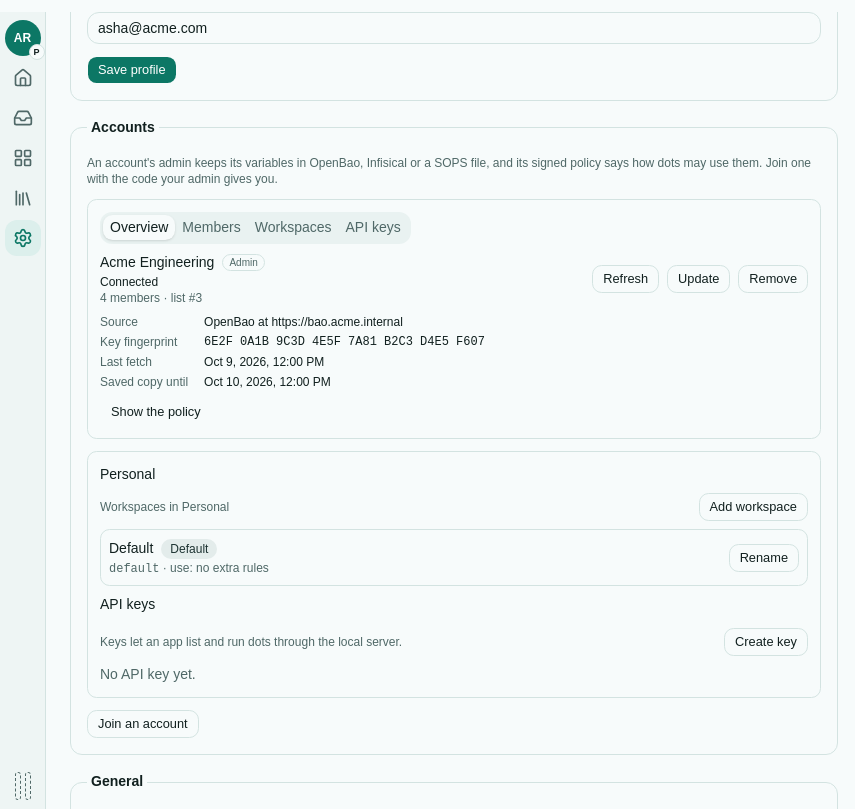
Test case: Settings, Accounts › shows the source, the key, the times and, when asked, the policy
The width and height of the screenshot is (855, 809).
(page scrolled)
Expected: the list item "Acme Engineering" shows "OpenBao at https://bao.acme.internal", [204, 314, 403, 328]
Expected: the text "6E2F 0A1B 9C3D 4E5F 7A81 B2C3 D4E5 F607" is shown, [204, 334, 485, 348]
Step 1. Click the button "Show the policy" → [156, 412], box [100, 398, 212, 426]
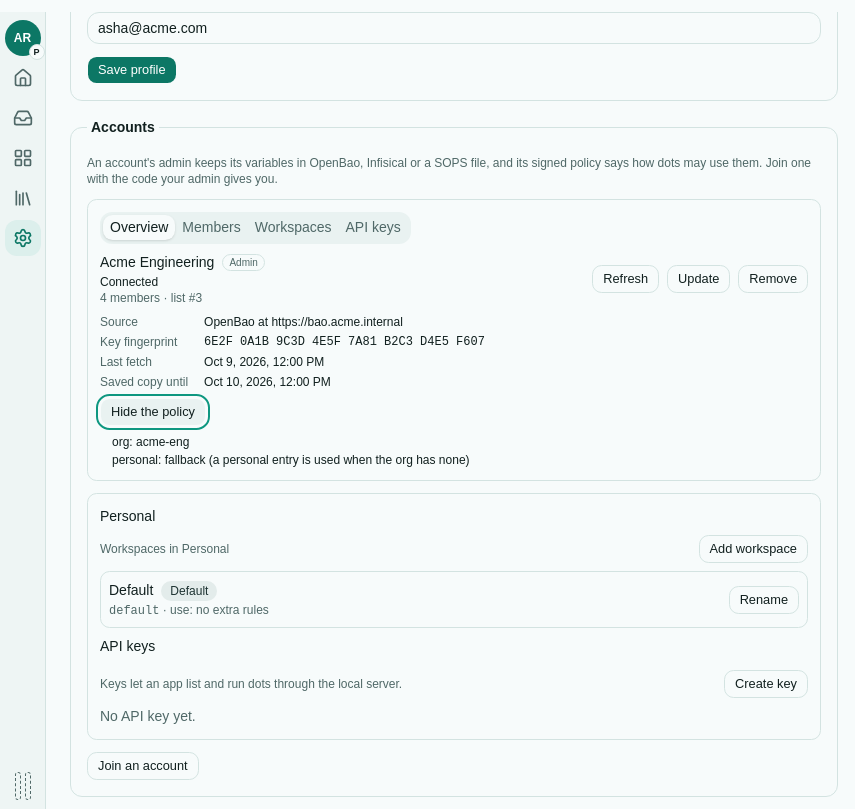
Now the list item "org: acme-eng" is shown, box [112, 434, 189, 448]
Now the list item "personal: fallback (a personal entry is used when the org has none)" is shown, box [112, 452, 470, 466]
Step 2. Click the button "Hide the policy" → [153, 412], box [100, 398, 206, 426]
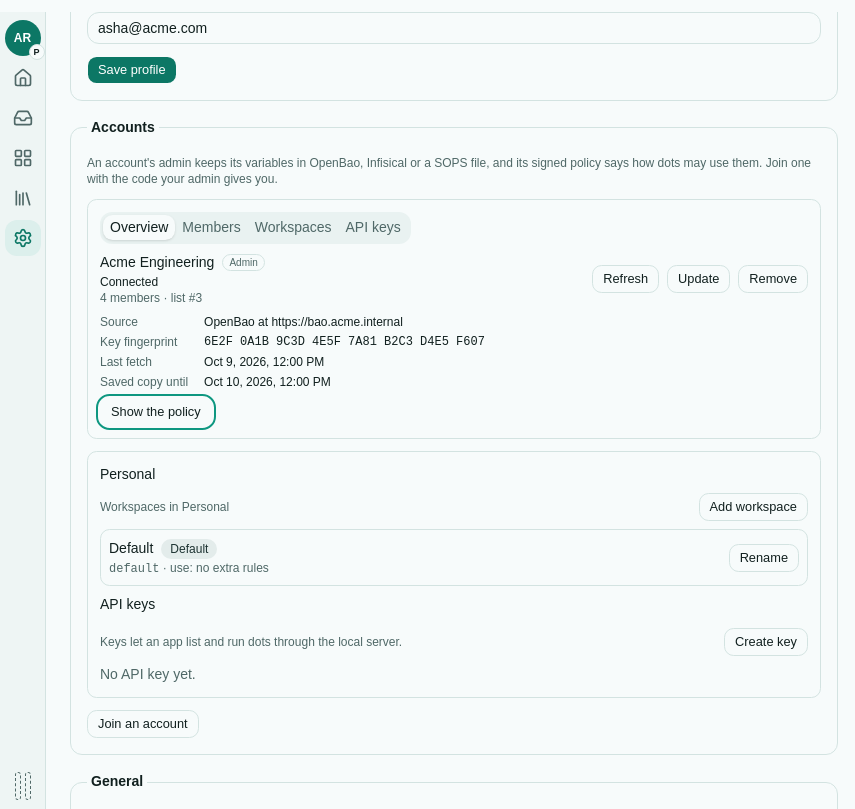
Now the list item "personal: fallback (a personal entry is used when the org has none)" is gone
